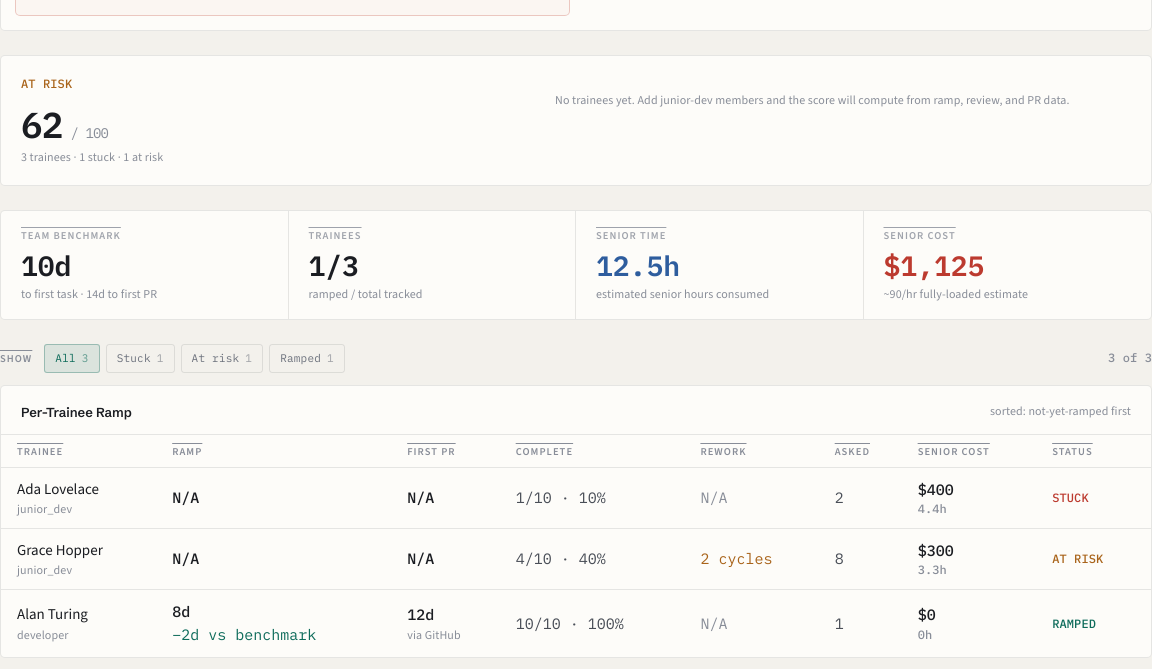
Test: Ramp — the people come before the benchmarks › bands the roster and derives each band from the profile
This screenshot has width=1152, height=669.
(page scrolled)
Check: the button "Stuck 1" is shown, box [106,344,174,372]
Check: the button "At risk 1" is shown, box [181,344,263,372]
Click the button "Ramped 1": point(307, 358) [269,344,345,372]
(page scrolled)
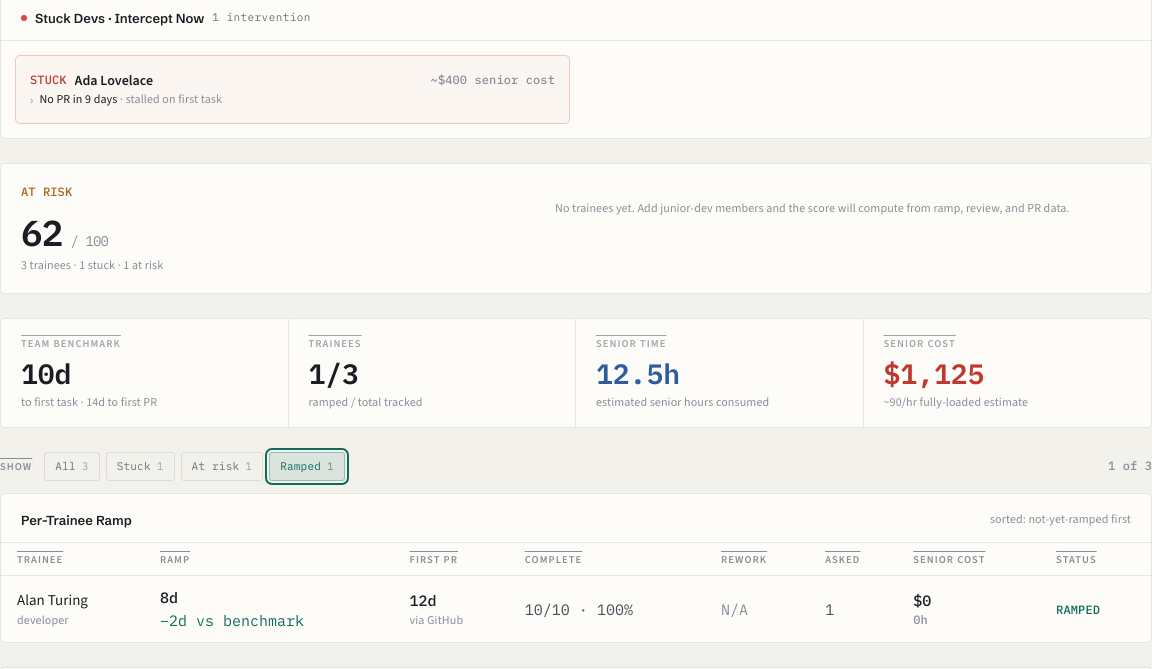
Check: the text "Alan Turing" is shown, box [17,590,88,610]
Check: the text "1 of 3" is shown, box [1108,458,1151,474]
